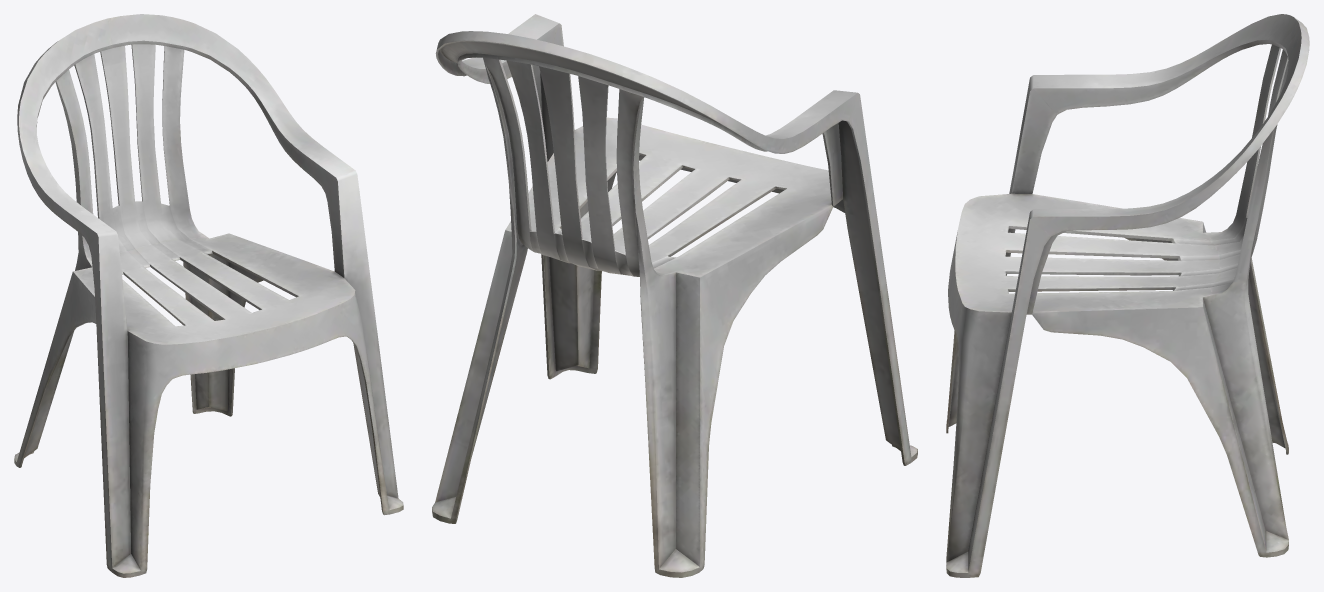
File: plastic_monobloc_chair_01.glb
The picture shows the model from 3 angles, left to right: view 1: azimuth 30°, elevation 25°; view 2: azimuth 150°, elevation 25°; view 3: azimuth 270°, elevation 25°; orthographic projection. The views are drawn at different scales.
Visible parts, largest first — view 1: plastic_monobloc_chair_01; view 2: plastic_monobloc_chair_01; view 3: plastic_monobloc_chair_01.
Part boxes in pixels (left/top/right/bottom): plastic_monobloc_chair_01: left=14, top=14, right=403, bottom=577; plastic_monobloc_chair_01: left=432, top=14, right=917, bottom=577; plastic_monobloc_chair_01: left=946, top=14, right=1309, bottom=577.
Size of the model in its own units: 0.6418 by 0.8798 by 0.6276.
1 material, 1 textured.
